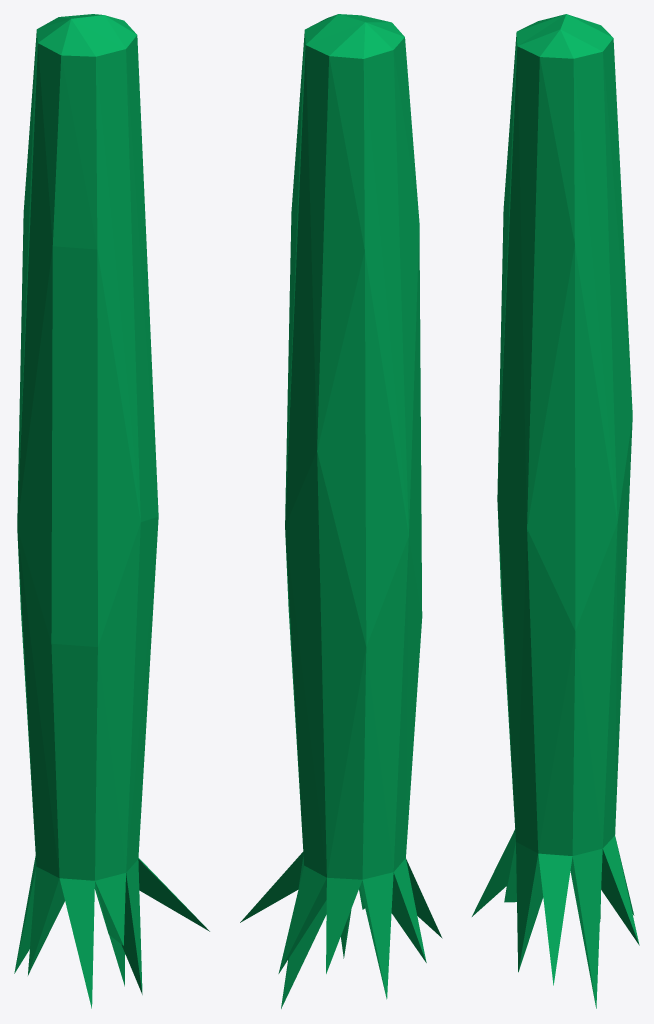
File: SeguaroCactusMedium1_LOD1.fbx
The picture shows the model from 3 angles, left to right: view 1: azimuth 30°, elevation 25°; view 2: azimuth 150°, elevation 25°; view 3: azimuth 270°, elevation 25°; orthographic projection. The views are drawn at different scales.
Visible parts, largest first — view 1: SeguaroCactusMedium1_LOD1; view 2: SeguaroCactusMedium1_LOD1; view 3: SeguaroCactusMedium1_LOD1.
Boxes of the visible parts, x1=… form: SeguaroCactusMedium1_LOD1: x1=14, y1=14, x2=209, y2=1008; SeguaroCactusMedium1_LOD1: x1=240, y1=14, x2=442, y2=1008; SeguaroCactusMedium1_LOD1: x1=472, y1=14, x2=639, y2=1008.
Bounding box in the file's own units: 36.75 × 232 × 45.19.
